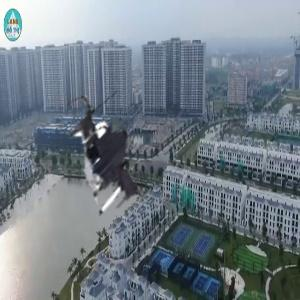drone: (37, 87, 180, 230)
